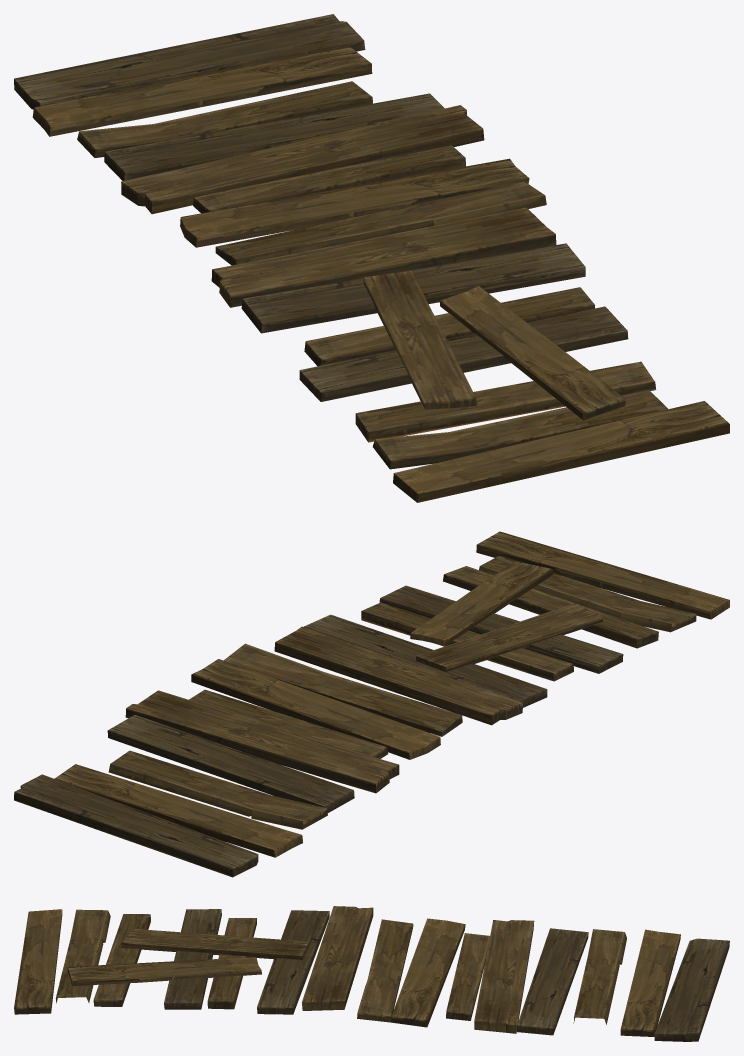
File: 6001_Item_mutou_14.FBX
3 views of the same model, one above another, from view 1: azimuth 30°, elevation 25°; view 2: azimuth 150°, elevation 25°; view 3: azimuth 270°, elevation 25° (orthographic). The views are drawn at different scales.
Parts seen in each view (by area): view 1: 6001_Item_mutou_14; view 2: 6001_Item_mutou_14; view 3: 6001_Item_mutou_14.
Boxes of the visible parts, x1,y1,x2,y2 form: 6001_Item_mutou_14: (14, 14, 729, 502); 6001_Item_mutou_14: (14, 531, 729, 877); 6001_Item_mutou_14: (14, 906, 729, 1041).
Size of the model in its own units: 320 by 31.75 by 709.
